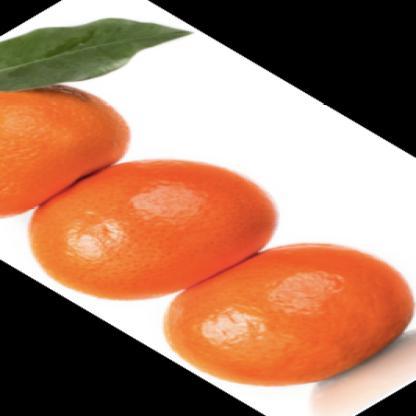fresh: (1, 43, 415, 386)
